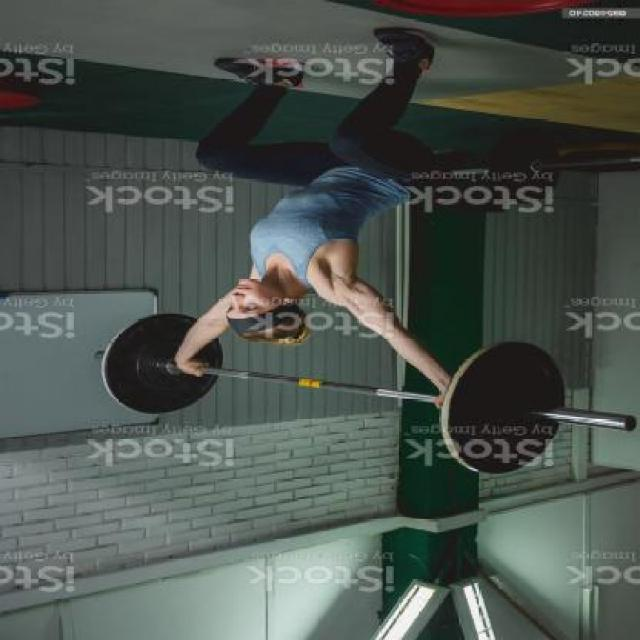Barbell: (614, 411, 638, 438)
